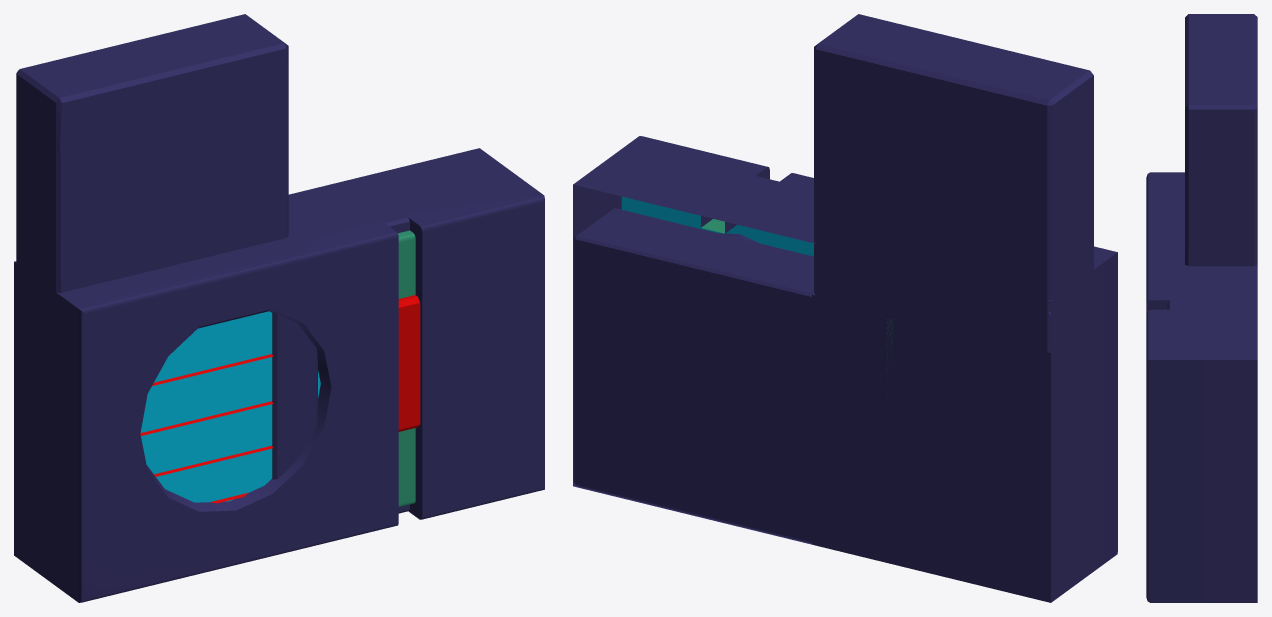
Rendered from Mounts.fbx.
3 renders of one model, left to right at view 1: azimuth 30°, elevation 25°; view 2: azimuth 150°, elevation 25°; view 3: azimuth 270°, elevation 25°, orthographic. The views are drawn at different scales.
Parts seen in each view (by area): view 1: ac1_lod0, powerBox1_lod0, ac2_lod0, decal, panel2_lod0, panel1_lod0; view 2: powerBox1_lod0, panel1_lod0, panel2_lod0, ac1_lod0, ac2_lod0; view 3: ac1_lod0, powerBox1_lod0, ac2_lod0.
Boxes of the visible parts, x1,y1,x2,y2 form: ac1_lod0: (14, 148, 544, 602); powerBox1_lod0: (16, 14, 288, 582); ac2_lod0: (14, 149, 507, 597); decal: (100, 82, 249, 274); panel2_lod0: (14, 314, 53, 584); panel1_lod0: (15, 315, 56, 583); powerBox1_lod0: (814, 14, 1093, 596); panel1_lod0: (574, 208, 1094, 595); panel2_lod0: (812, 293, 1081, 602); ac1_lod0: (573, 136, 1117, 602); ac2_lod0: (573, 145, 1079, 599); ac1_lod0: (1146, 172, 1257, 602); powerBox1_lod0: (1185, 14, 1257, 266); ac2_lod0: (1155, 180, 1257, 358).
Size of what is drawn, in the model's own units: 1 by 1 by 0.25.
